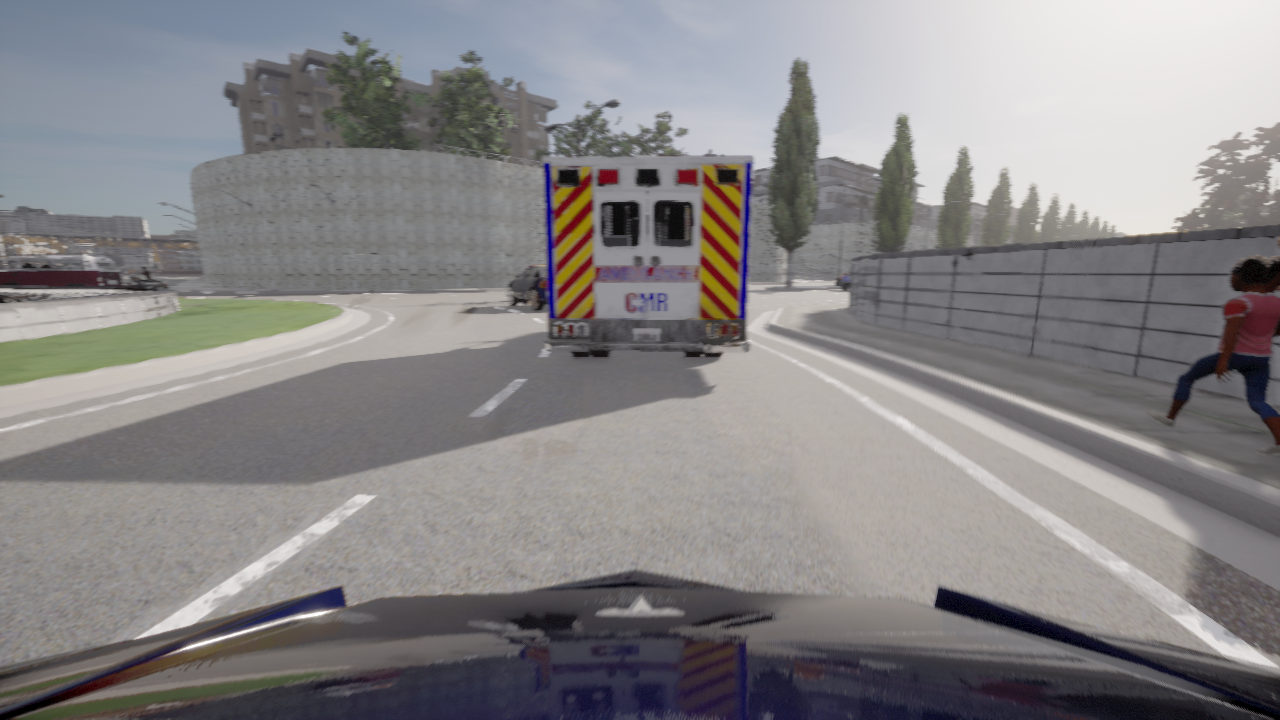cyclist: (0, 569, 1279, 719), (542, 156, 752, 357), (0, 256, 124, 287), (506, 265, 546, 310), (124, 275, 168, 288), (841, 270, 851, 290)
pedestrian: (1146, 259, 1279, 456), (1264, 236, 1279, 293)
